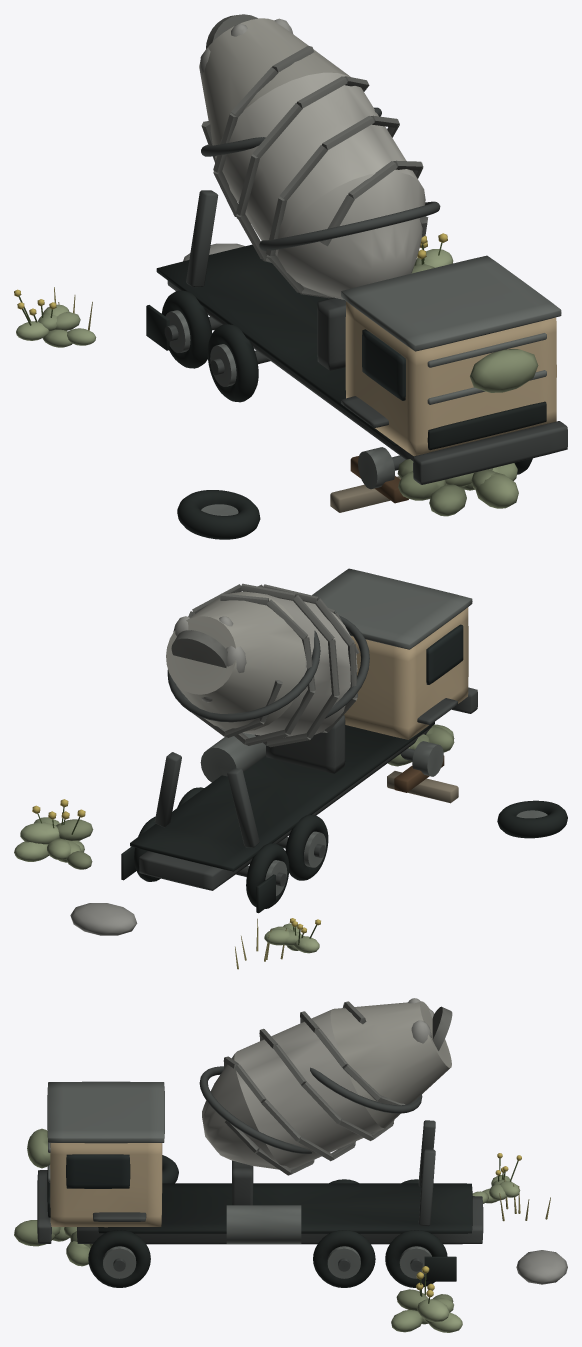
The model's file is mixer_wreck_b.glb.
3 views of the same model, one above another, from view 1: azimuth 30°, elevation 25°; view 2: azimuth 150°, elevation 25°; view 3: azimuth 270°, elevation 25° (orthographic). The views are drawn at different scales.
Visible parts, largest first — view 1: Surface; view 2: Surface; view 3: Surface.
Part boxes in pixels (x1,y1,x2,y2): Surface: (14, 14, 567, 539); Surface: (14, 568, 567, 969); Surface: (14, 998, 567, 1332).
Bounding box in the file's own units: 11.7 × 8.05 × 15.53.
